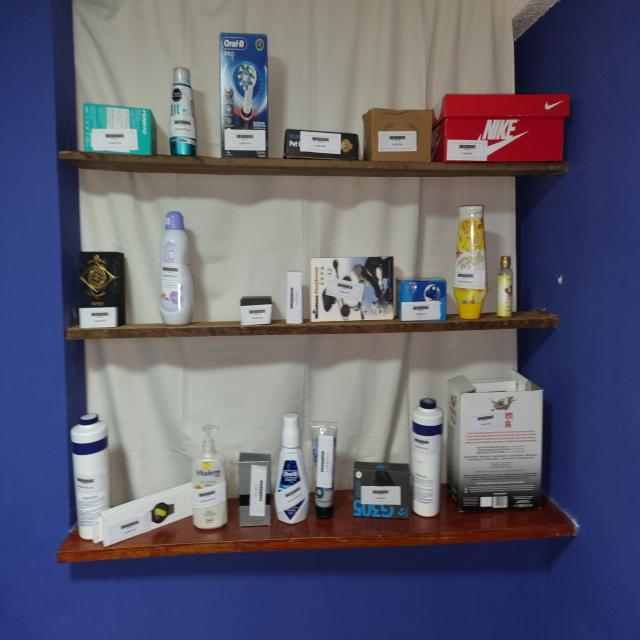botella: (71, 413, 110, 540), (160, 211, 194, 326), (274, 413, 309, 524), (453, 205, 487, 319), (411, 398, 443, 517), (192, 425, 228, 529), (168, 67, 197, 156), (311, 423, 337, 519), (497, 256, 513, 319)
caja: (447, 369, 543, 511), (431, 94, 569, 162), (94, 482, 193, 546), (220, 33, 268, 158), (310, 256, 397, 322), (83, 103, 156, 155), (363, 108, 432, 162), (77, 252, 125, 327), (353, 461, 411, 519), (239, 453, 272, 530), (283, 129, 360, 160), (398, 278, 446, 321), (240, 296, 272, 327), (285, 271, 303, 325)
